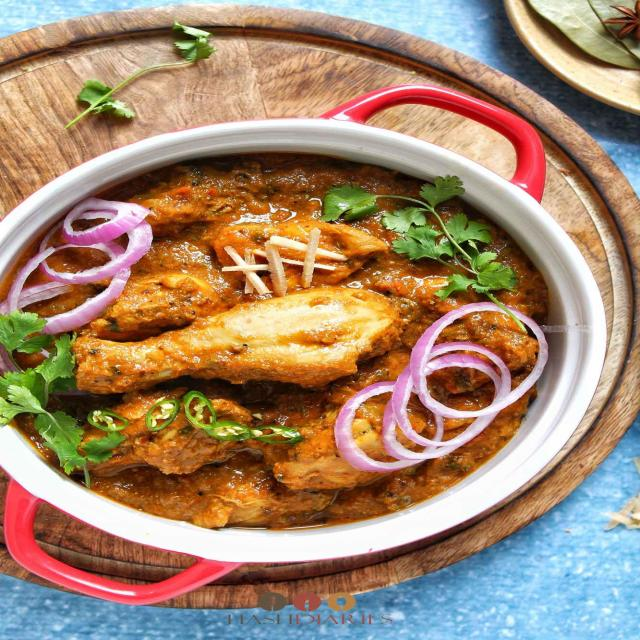chicken: (0, 156, 574, 558)
